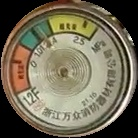green: (20, 17, 55, 49)
needle: (37, 23, 58, 52)
red: (5, 43, 34, 96)
yellow: (50, 11, 100, 39)
